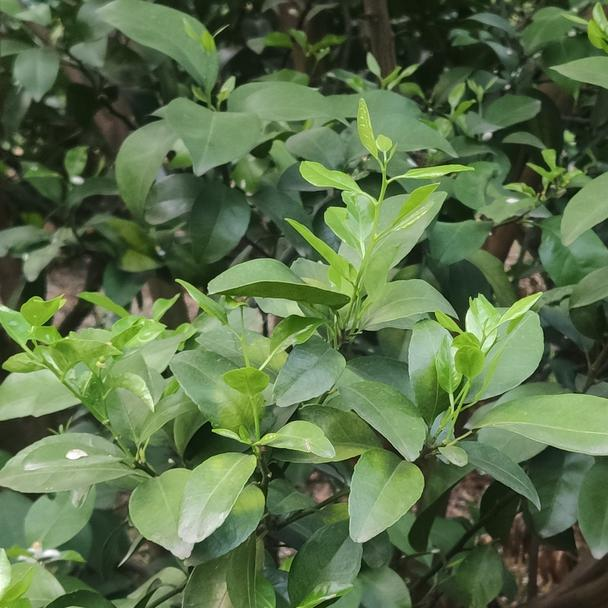shoot: (330, 102, 461, 276), (190, 289, 322, 423), (452, 293, 539, 425)
